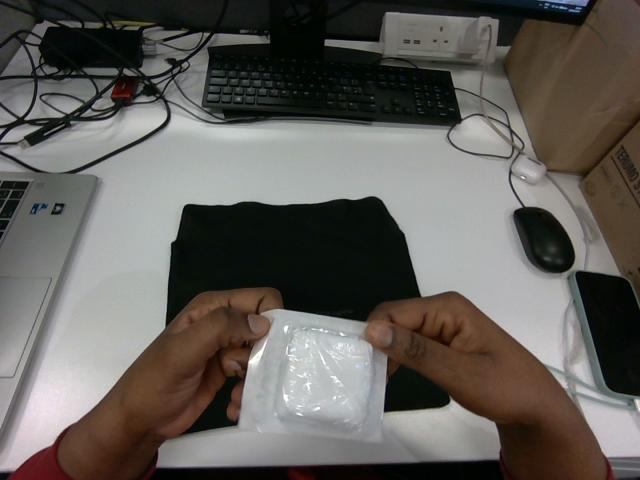gauze: (239, 310, 386, 440)
